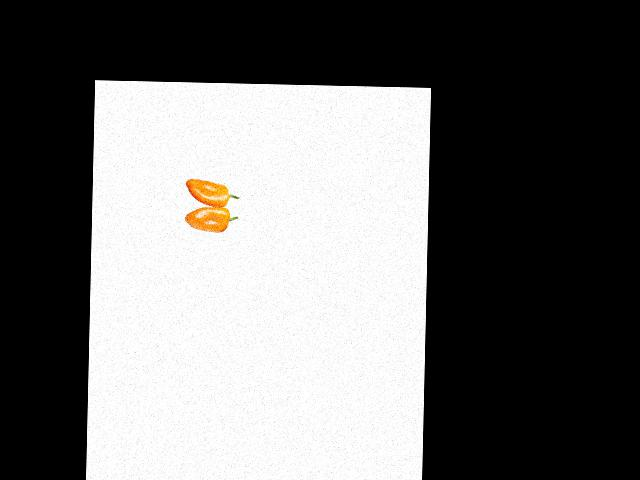bell_pepper: (173, 205, 239, 238)
